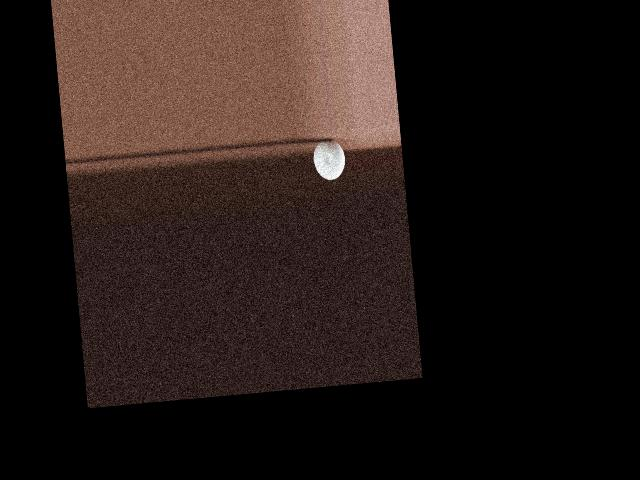egg: (312, 138, 346, 181)
